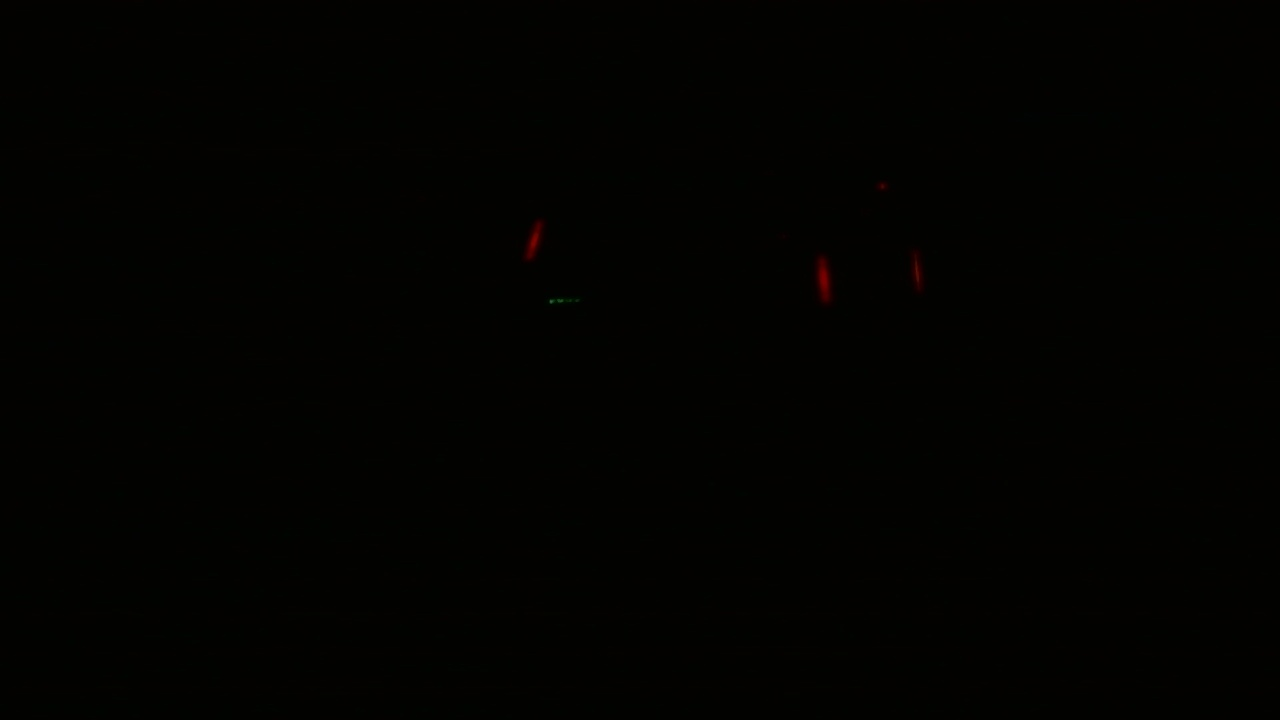pair1: (811, 248, 925, 305)
